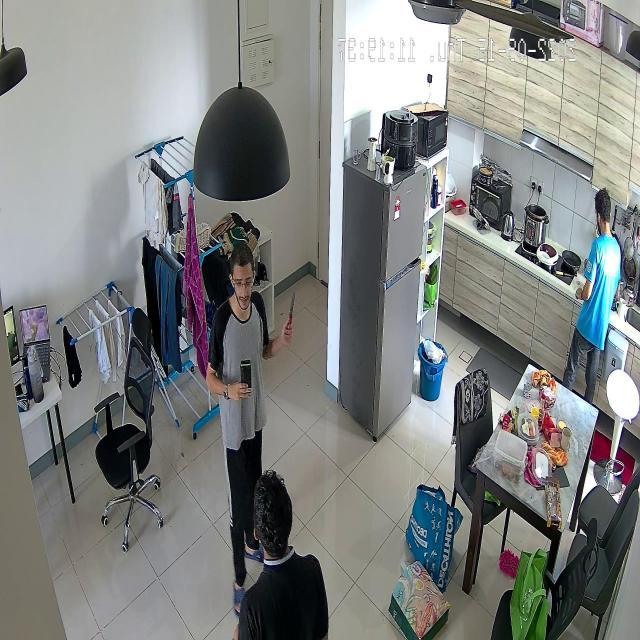Knife: (282, 285, 306, 342)
